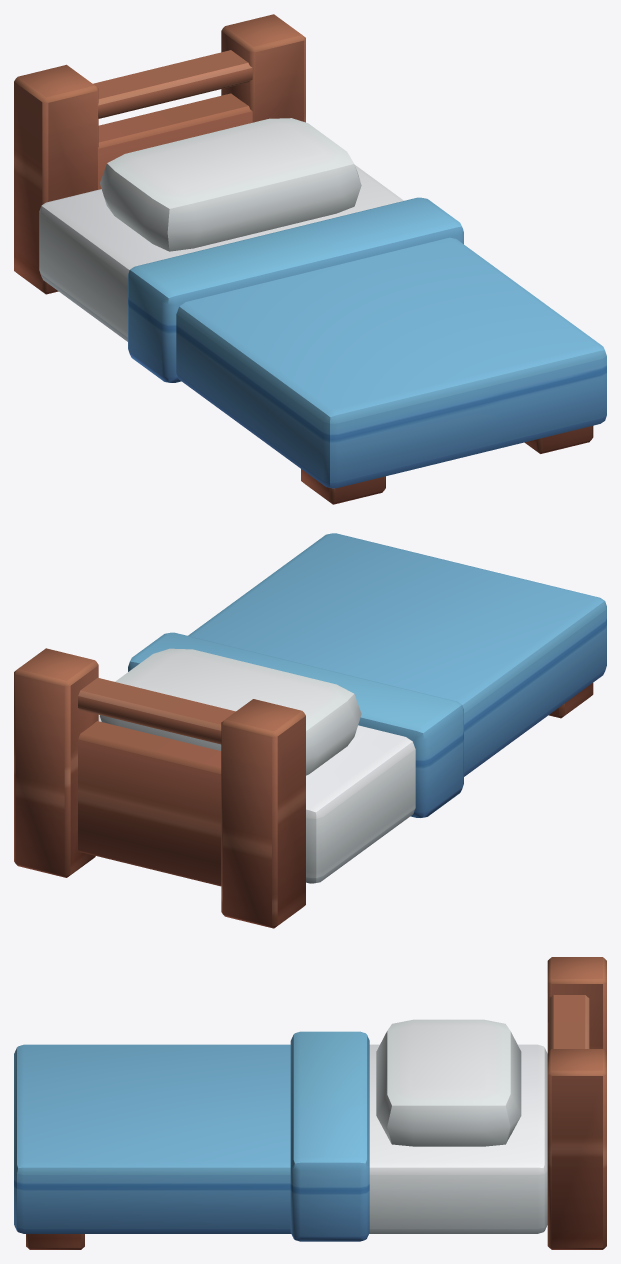
The model's file is fur_bed_single_A.glb.
The picture shows the model from 3 angles, top to bottom: view 1: azimuth 30°, elevation 25°; view 2: azimuth 150°, elevation 25°; view 3: azimuth 270°, elevation 25°; orthographic projection. The views are drawn at different scales.
Parts seen in each view (by area): view 1: bed_single_A; view 2: bed_single_A; view 3: bed_single_A.
Part boxes in pixels (x1,y1,x2,y2): bed_single_A: (14,14,606,504); bed_single_A: (14,533,606,928); bed_single_A: (14,957,606,1249).
Size of the model in its own units: 1.6 by 1 by 3.
1 material, 1 textured.
